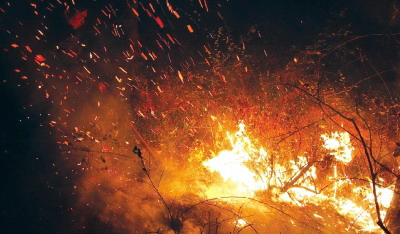fire: (199, 123, 318, 206), (323, 125, 395, 231)
smoke: (61, 70, 164, 223)
